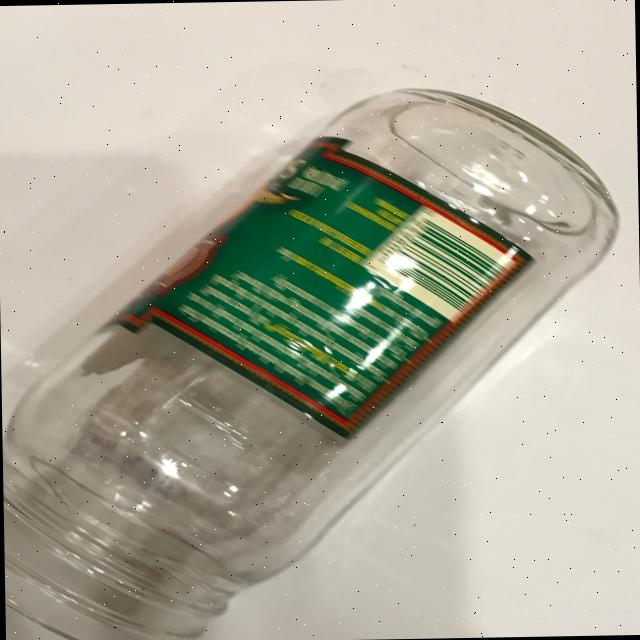glass: (0, 79, 627, 640)
